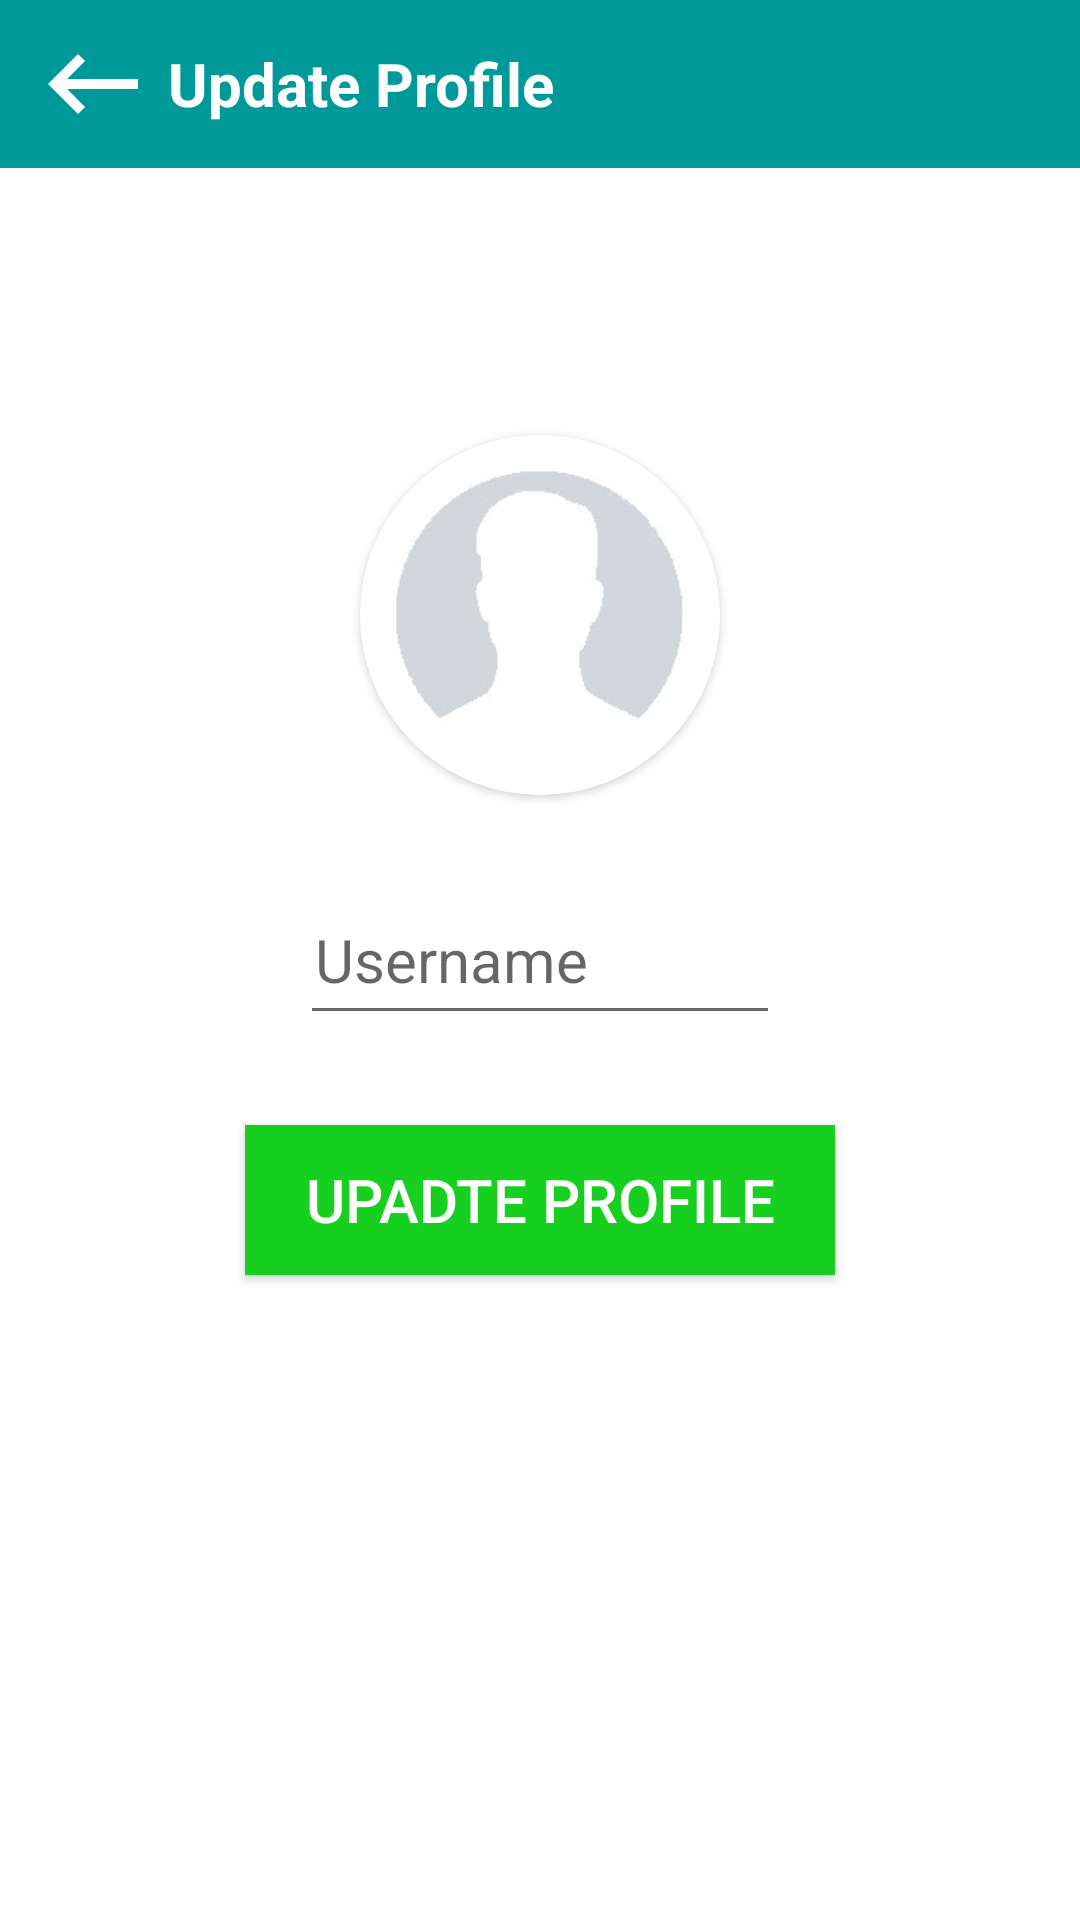

Screen size 1080 x 1920. Icon name, then its center in pixels as [x,y]:
keyboard backspace: [93,84]
person: [540,633]
